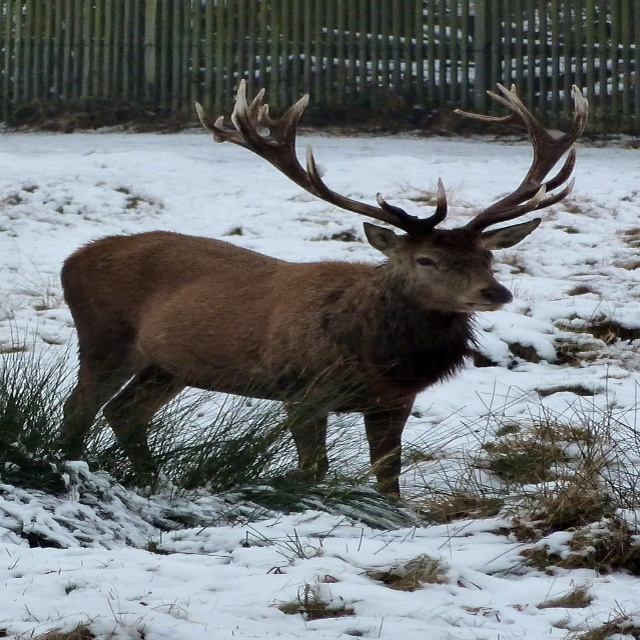Deer: (61, 79, 589, 500)
